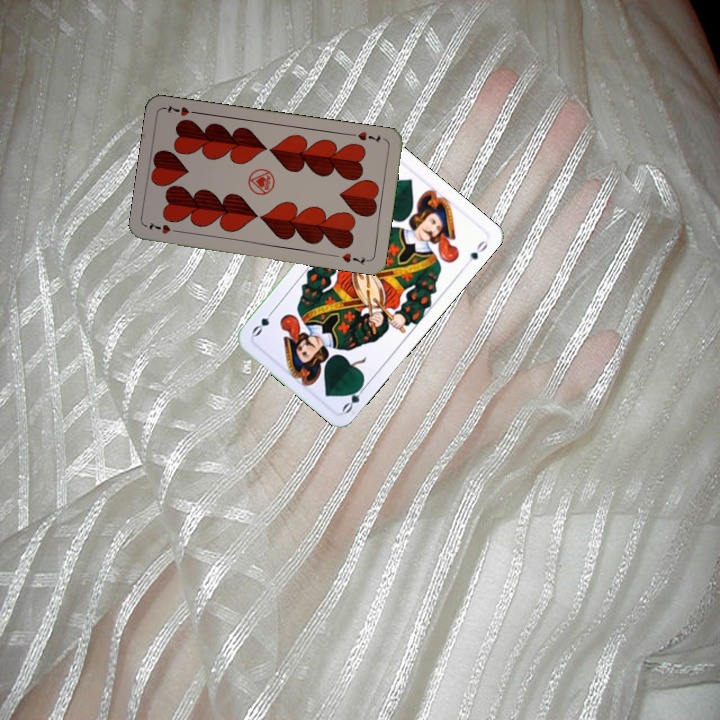GO: (338, 379, 370, 416)
H7: (145, 219, 184, 237), (354, 128, 383, 145)
